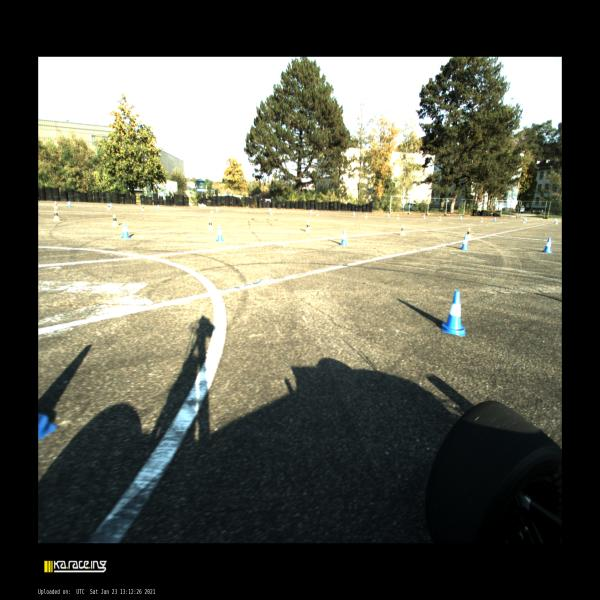blue_cone: (440, 290, 466, 336), (120, 222, 132, 238), (215, 225, 224, 242), (542, 238, 552, 253), (339, 230, 348, 246), (460, 235, 469, 250), (67, 200, 72, 207), (109, 202, 113, 209), (157, 204, 160, 210), (216, 206, 219, 212), (353, 211, 355, 217), (310, 209, 312, 215), (387, 214, 390, 218), (494, 216, 496, 222), (423, 214, 425, 219), (268, 209, 270, 214), (460, 216, 462, 220), (525, 218, 527, 222), (554, 219, 556, 222)
yellow_cone: (111, 214, 118, 227), (399, 224, 406, 236), (53, 210, 60, 222), (466, 227, 472, 240), (305, 220, 311, 233), (207, 218, 213, 231), (54, 201, 58, 209), (141, 205, 145, 211), (107, 203, 110, 210), (365, 212, 368, 219), (396, 214, 400, 219), (438, 216, 442, 221), (270, 209, 273, 215), (523, 218, 526, 224), (480, 217, 483, 222), (211, 208, 213, 213), (316, 211, 318, 216), (556, 220, 558, 224)
